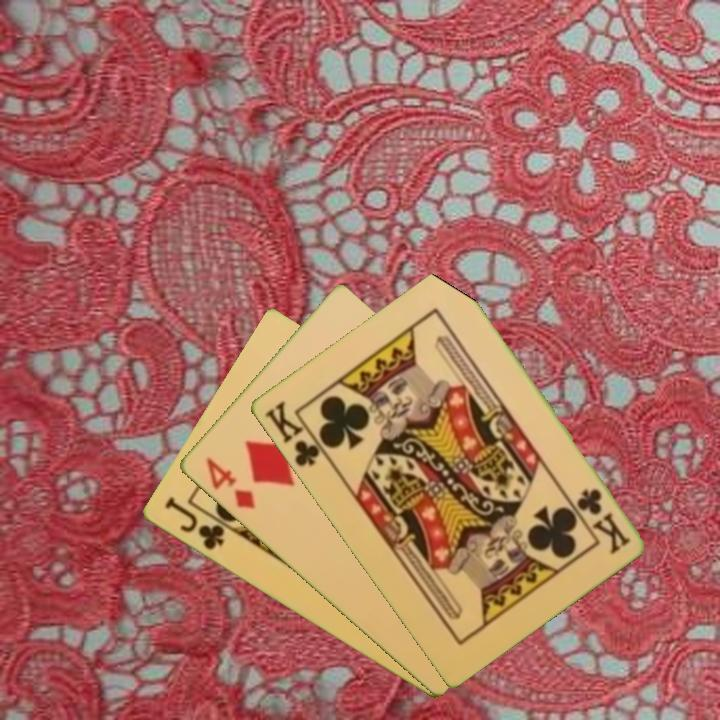4d: (201, 454, 258, 513)
Jc: (160, 493, 228, 554)
Kc: (260, 396, 330, 470), (573, 485, 633, 556)
